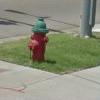Hydrant: (23, 11, 63, 65)
